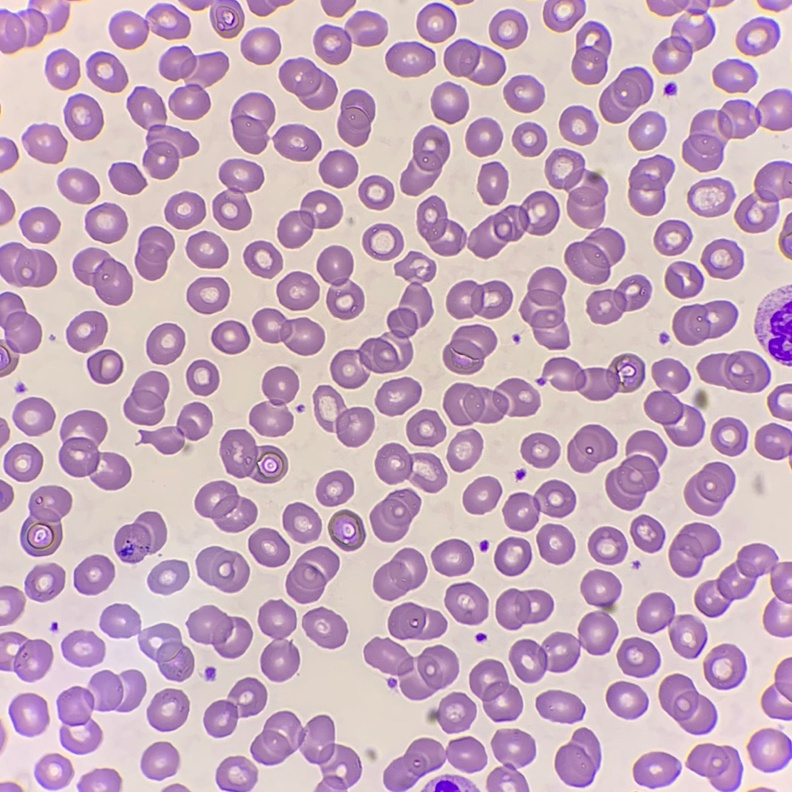RBC: (509, 570, 620, 681), (545, 149, 624, 283), (359, 252, 435, 372), (682, 90, 791, 171), (251, 711, 361, 791), (59, 670, 146, 752), (695, 544, 791, 616), (127, 87, 198, 178), (468, 191, 558, 257), (364, 639, 458, 699), (59, 410, 130, 489), (644, 359, 707, 446), (383, 737, 486, 790), (159, 47, 228, 119), (647, 0, 712, 73), (606, 431, 665, 509), (544, 354, 644, 400), (443, 379, 539, 425), (637, 593, 706, 657), (735, 161, 791, 232), (521, 268, 568, 349), (314, 11, 387, 63), (313, 385, 373, 446), (0, 0, 69, 53), (277, 191, 342, 247), (204, 678, 266, 736), (220, 429, 287, 482), (141, 403, 212, 453), (213, 159, 263, 229), (504, 480, 574, 530), (21, 485, 71, 555), (375, 443, 446, 492), (249, 367, 298, 436), (0, 293, 41, 375), (188, 605, 252, 657), (258, 600, 299, 681), (110, 6, 189, 48), (317, 246, 363, 318), (73, 248, 132, 304), (659, 674, 715, 733), (401, 126, 449, 194), (469, 659, 522, 720), (253, 309, 324, 354), (195, 481, 256, 531), (486, 729, 535, 791), (587, 275, 650, 323), (141, 623, 193, 679), (698, 351, 769, 392), (286, 547, 338, 602), (279, 59, 336, 109), (599, 69, 652, 122), (417, 197, 465, 255), (373, 548, 426, 599), (444, 39, 504, 84), (673, 301, 735, 344), (114, 511, 166, 562), (684, 462, 734, 515), (669, 523, 719, 576), (555, 728, 600, 786), (370, 489, 420, 541), (231, 93, 274, 153), (443, 325, 495, 373), (0, 632, 52, 680), (687, 744, 740, 790), (629, 156, 671, 214), (0, 243, 56, 286), (447, 281, 512, 318), (197, 546, 249, 592), (124, 371, 168, 424), (572, 22, 610, 83), (567, 425, 616, 472), (496, 589, 552, 629), (183, 0, 243, 37), (388, 603, 446, 639), (135, 227, 174, 279), (338, 90, 374, 145), (427, 692, 475, 732), (704, 644, 744, 689), (445, 583, 487, 624), (147, 689, 189, 730), (302, 608, 346, 647), (687, 179, 733, 216), (748, 729, 789, 770), (386, 42, 435, 76), (65, 94, 102, 139), (274, 124, 320, 160), (86, 52, 127, 92), (66, 311, 107, 351), (23, 125, 66, 163), (633, 752, 680, 786), (617, 638, 659, 676), (376, 378, 420, 414), (702, 239, 742, 278), (74, 555, 114, 594), (86, 204, 127, 242), (146, 323, 184, 364), (13, 397, 54, 435), (248, 528, 289, 566), (277, 272, 319, 309), (187, 277, 229, 313), (536, 690, 583, 722), (417, 3, 455, 42), (283, 503, 321, 542), (25, 563, 64, 601), (504, 75, 544, 112), (432, 539, 473, 575), (606, 682, 647, 718), (12, 693, 48, 734), (62, 630, 104, 665), (4, 443, 42, 481), (489, 9, 526, 48), (431, 83, 468, 122), (537, 524, 574, 563), (165, 192, 205, 228), (328, 510, 364, 550), (58, 168, 99, 203), (186, 232, 227, 267), (447, 430, 482, 471), (216, 756, 257, 791), (559, 106, 596, 144), (319, 150, 357, 187), (141, 742, 179, 779), (589, 527, 626, 564), (466, 118, 502, 156), (244, 241, 282, 277), (20, 207, 59, 242), (363, 224, 402, 259), (406, 410, 445, 445), (463, 477, 500, 513), (629, 112, 664, 150), (331, 350, 366, 388), (495, 537, 530, 575), (241, 30, 280, 64), (45, 50, 79, 89), (148, 560, 188, 593), (665, 262, 702, 297), (711, 418, 746, 455), (521, 433, 559, 467), (100, 604, 140, 636), (654, 220, 690, 255), (755, 424, 791, 459), (316, 471, 353, 505), (737, 22, 776, 54), (543, 0, 583, 31), (478, 162, 507, 204), (631, 515, 664, 551), (212, 321, 249, 353), (713, 62, 753, 91), (359, 176, 393, 209), (88, 350, 122, 383), (109, 163, 145, 194), (513, 123, 546, 156), (186, 360, 218, 394), (38, 754, 72, 786), (763, 602, 791, 636), (0, 586, 24, 625), (81, 769, 121, 791), (762, 690, 791, 718), (775, 658, 791, 699), (248, 0, 288, 15), (767, 396, 791, 420), (0, 137, 17, 170), (321, 0, 354, 16), (779, 215, 791, 257), (0, 191, 13, 223), (769, 339, 788, 359), (0, 481, 12, 509), (0, 419, 9, 444), (0, 782, 21, 791), (165, 784, 186, 791), (779, 0, 790, 7), (714, 0, 727, 5), (0, 730, 5, 743), (783, 384, 791, 392), (450, 775, 458, 783)
